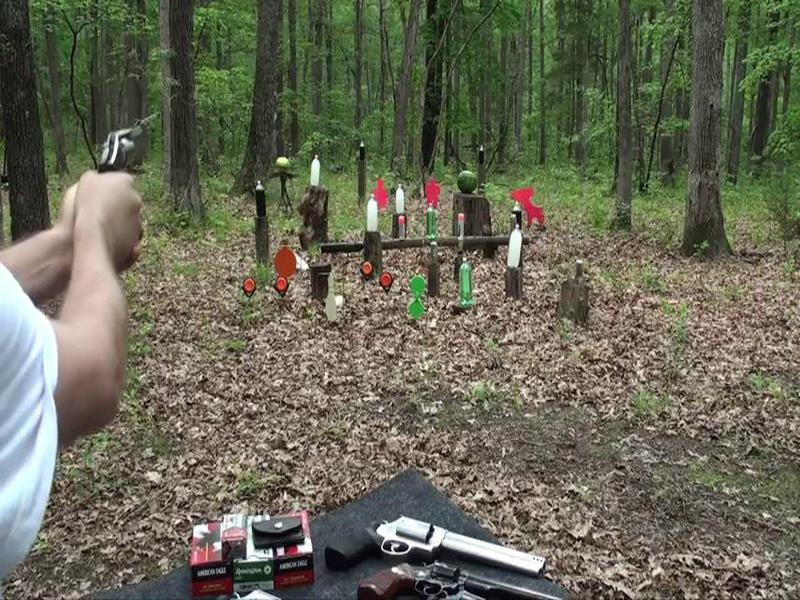Revolver: (86, 106, 151, 207)
